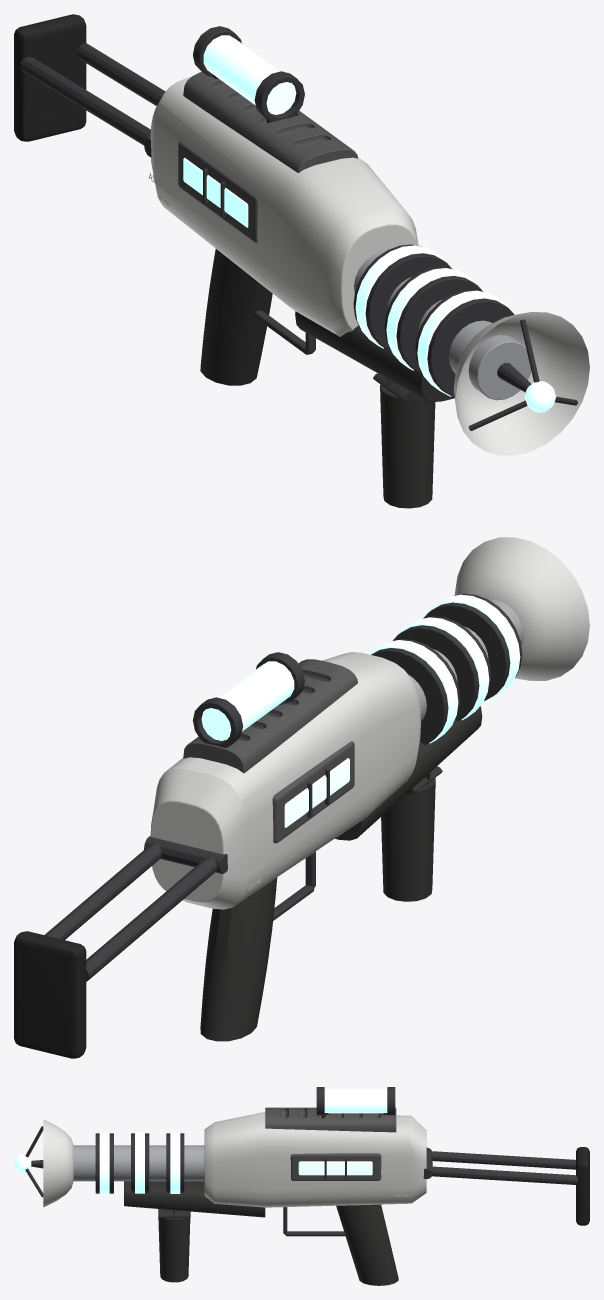
File: assistgun.glb
3 renders of one model, top to bottom at view 1: azimuth 30°, elevation 25°; view 2: azimuth 150°, elevation 25°; view 3: azimuth 270°, elevation 25°, orthographic. The views are drawn at different scales.
Parts seen in each view (by area): view 1: Body; view 2: Body; view 3: Body.
Part boxes in pixels (box(x1,y1,x2,y2)): Body: box(14, 14, 589, 508); Body: box(14, 537, 589, 1058); Body: box(14, 1087, 589, 1285).
Bounding box in the file's own units: 0.088 × 0.2092 × 0.571.
